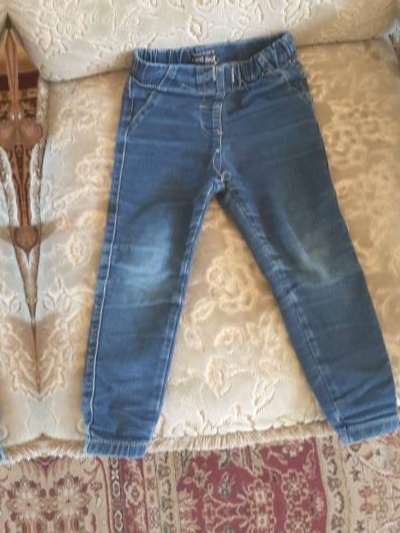Pants: (46, 3, 383, 472), (0, 34, 8, 503)
